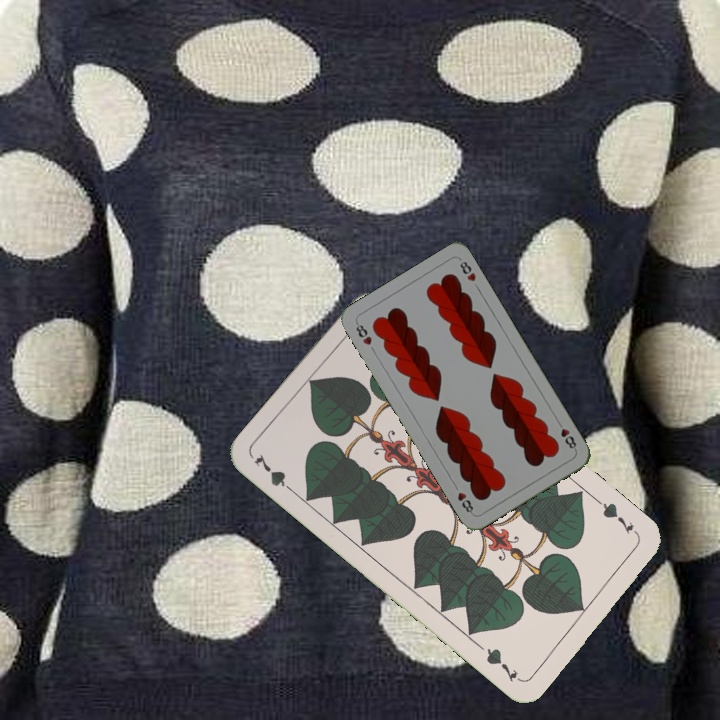G7: (250, 449, 299, 497), (593, 496, 636, 537)
H8: (553, 417, 579, 453), (352, 318, 374, 348)
